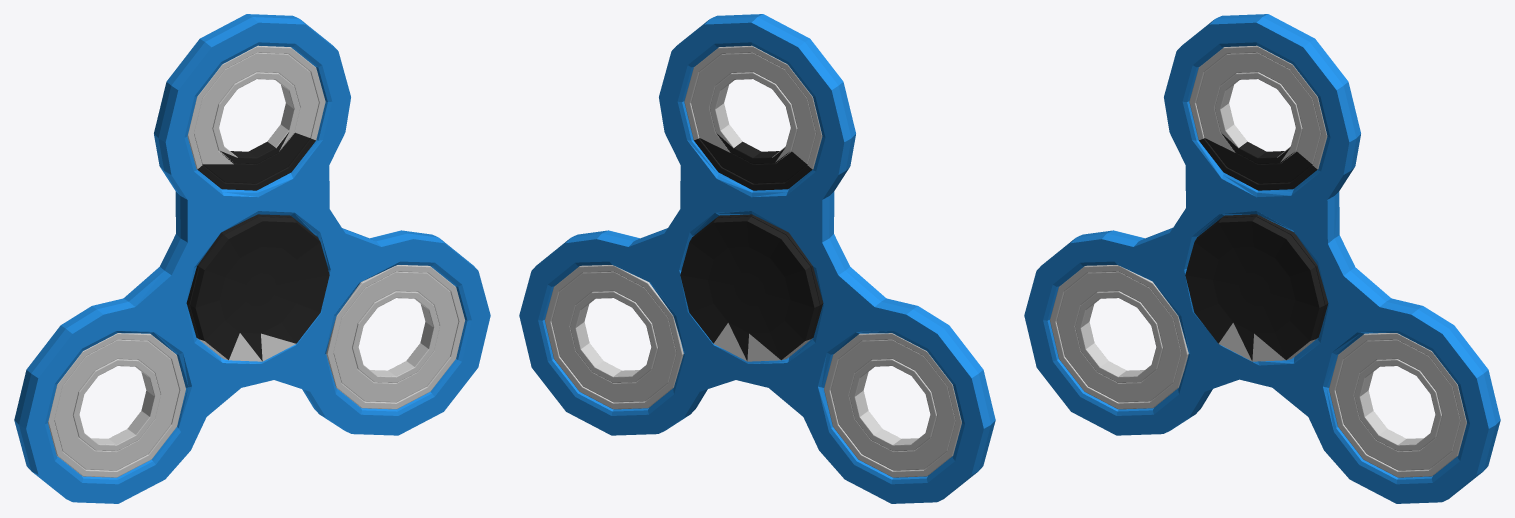
File: spinner.glb
3 views of the same model, side by side, from view 1: azimuth 30°, elevation 25°; view 2: azimuth 150°, elevation 25°; view 3: azimuth 330°, elevation 25° (orthographic).
Visible parts, largest first — view 1: Body, Weights, Cap; view 2: Body, Weights, Cap; view 3: Body, Weights, Cap.
Part boxes in pixels (x1=…): Body: x1=14, y1=14, x2=490, y2=503; Weights: x1=48, y1=45, x2=464, y2=477; Cap: x1=186, y1=132, x2=329, y2=361; Body: x1=519, y1=14, x2=995, y2=503; Weights: x1=545, y1=45, x2=961, y2=477; Cap: x1=680, y1=133, x2=823, y2=360; Body: x1=1024, y1=14, x2=1500, y2=503; Weights: x1=1050, y1=45, x2=1466, y2=477; Cap: x1=1185, y1=133, x2=1328, y2=360.
Bounding box in the file's own units: 7.33 × 6.75 × 0.5505.
